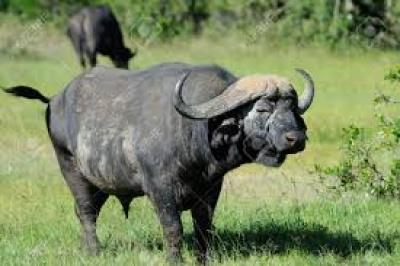buffalo: (5, 63, 314, 266)
